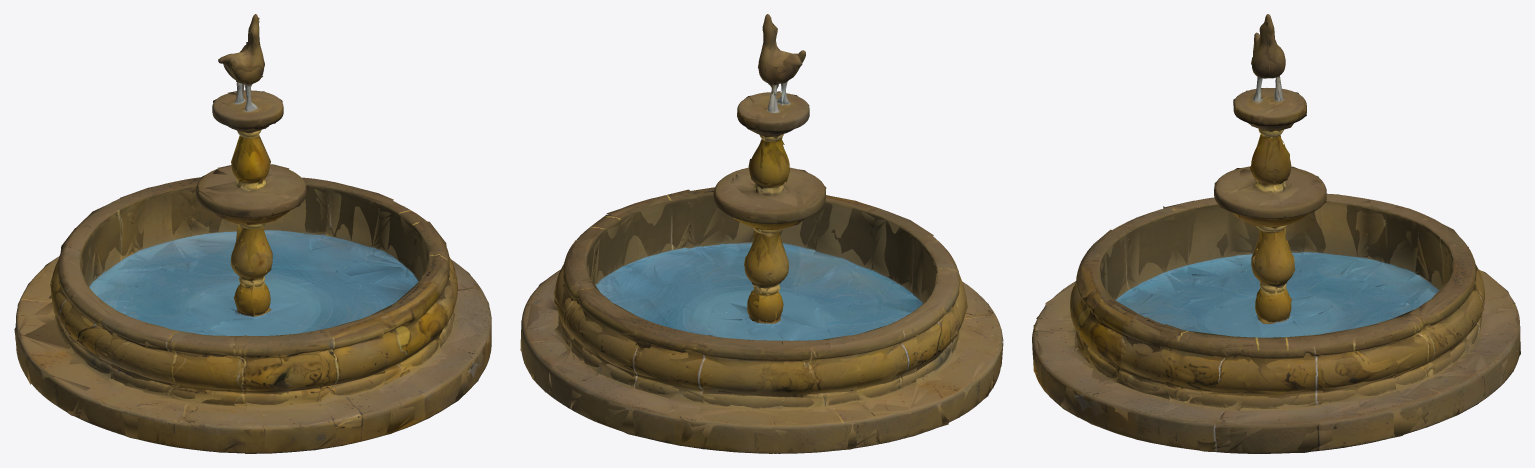
Rendered from fuente.glb.
3 views of the same model, side by side, from view 1: azimuth 30°, elevation 25°; view 2: azimuth 150°, elevation 25°; view 3: azimuth 270°, elevation 25° (orthographic).
Visible parts, largest first — view 1: tripo_node_dc4c405f-b318-4b81-a783-095663665ca6, tripo_node_dc4c405f-b318-4b81-a783-095663665ca6.001; view 2: tripo_node_dc4c405f-b318-4b81-a783-095663665ca6, tripo_node_dc4c405f-b318-4b81-a783-095663665ca6.001; view 3: tripo_node_dc4c405f-b318-4b81-a783-095663665ca6, tripo_node_dc4c405f-b318-4b81-a783-095663665ca6.001.
Part boxes in pixels (x1,y1,x2,y2): tripo_node_dc4c405f-b318-4b81-a783-095663665ca6: (15,14,491,453); tripo_node_dc4c405f-b318-4b81-a783-095663665ca6.001: (14,17,489,453); tripo_node_dc4c405f-b318-4b81-a783-095663665ca6: (521,14,1002,453); tripo_node_dc4c405f-b318-4b81-a783-095663665ca6.001: (520,17,1003,453); tripo_node_dc4c405f-b318-4b81-a783-095663665ca6: (1032,14,1520,453); tripo_node_dc4c405f-b318-4b81-a783-095663665ca6.001: (1032,19,1520,452).
Size of the model in its own units: 0.9939 by 0.7905 by 1.
2 materials, 2 textured.
